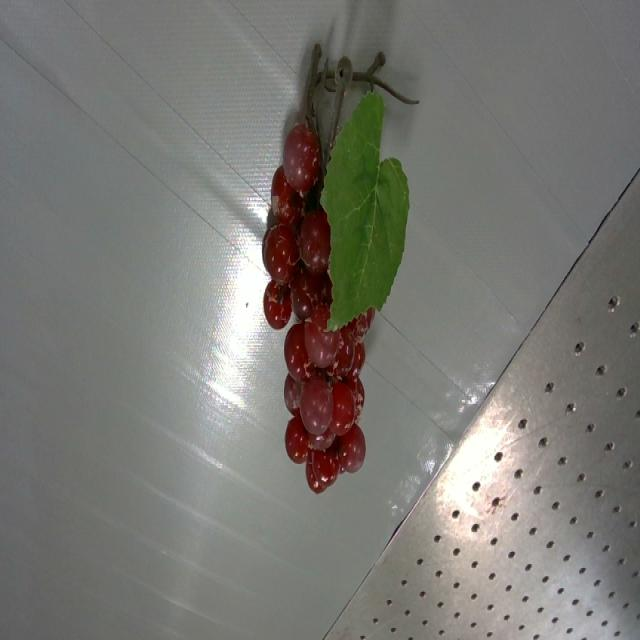grape: (262, 44, 415, 492)
